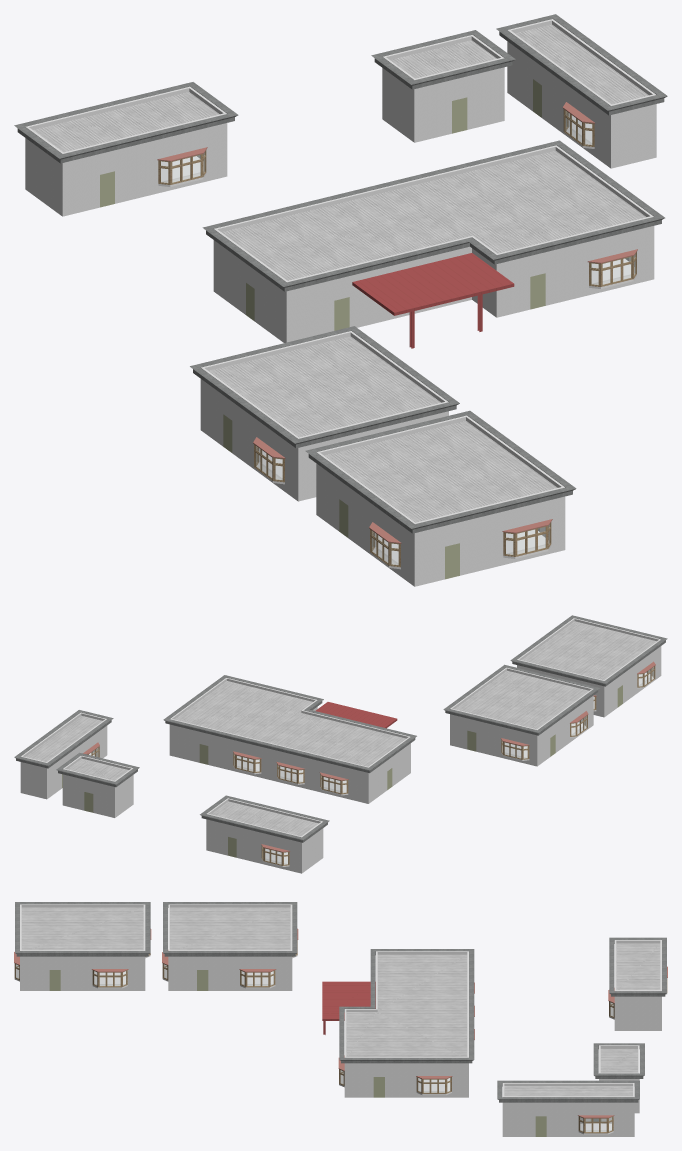
Rendered from Plan(REF)_levels(1)_window(W Splay Bay 23_5)_wall(WAFRA WALL)_quoin(N)_cornice(Y).fbx.
3 views of the same model, one above another, from view 1: azimuth 30°, elevation 25°; view 2: azimuth 150°, elevation 25°; view 3: azimuth 270°, elevation 25° (orthographic). The views are drawn at different scales.
Visible parts, largest first — view 1: WAFRA Stucco - White Rough 23, WAFRA Roof - Corrugated Sheet Matte 23, Concrete - Structural, WAFRA Roof - Standing Seam Red Coat 23, Color - Beige, Wood - Millwork - Pine - Horizontal, Glass - Clear, Metal - Finish - Copper, Color - White; view 2: WAFRA Stucco - White Rough 23, WAFRA Roof - Corrugated Sheet Matte 23, Concrete - Structural, Wood - Millwork - Pine - Horizontal, Glass - Clear, Color - Beige, WAFRA Roof - Standing Seam Red Coat 23, Metal - Finish - Copper, Color - White; view 3: WAFRA Roof - Corrugated Sheet Matte 23, WAFRA Stucco - White Rough 23, Concrete - Structural, Wood - Millwork - Pine - Horizontal, WAFRA Roof - Standing Seam Red Coat 23, Glass - Clear, Color - Beige, Metal - Finish - Copper, Color - White.
Part boxes in pixels (x1=…): WAFRA Stucco - White Rough 23: x1=25, y1=19, x2=656, y2=586; WAFRA Roof - Corrugated Sheet Matte 23: x1=33, y1=24, x2=648, y2=522; Concrete - Structural: x1=14, y1=14, x2=667, y2=533; WAFRA Roof - Standing Seam Red Coat 23: x1=352, y1=253, x2=514, y2=348; Color - Beige: x1=100, y1=79, x2=545, y2=579; Wood - Millwork - Pine - Horizontal: x1=158, y1=109, x2=636, y2=567; Glass - Clear: x1=161, y1=111, x2=635, y2=564; Metal - Finish - Copper: x1=157, y1=102, x2=637, y2=543; Color - White: x1=158, y1=128, x2=636, y2=569; WAFRA Stucco - White Rough 23: x1=20, y1=618, x2=661, y2=873; WAFRA Roof - Corrugated Sheet Matte 23: x1=25, y1=621, x2=656, y2=836; Concrete - Structural: x1=14, y1=615, x2=667, y2=842; Wood - Millwork - Pine - Horizontal: x1=87, y1=666, x2=655, y2=865; Glass - Clear: x1=89, y1=667, x2=653, y2=864; Color - Beige: x1=62, y1=685, x2=622, y2=857; WAFRA Roof - Standing Seam Red Coat 23: x1=315, y1=702, x2=397, y2=728; Metal - Finish - Copper: x1=83, y1=661, x2=655, y2=852; Color - White: x1=233, y1=677, x2=655, y2=866; WAFRA Roof - Corrugated Sheet Matte 23: x1=21, y1=907, x2=660, y2=1096; WAFRA Stucco - White Rough 23: x1=20, y1=904, x2=661, y2=1136; Concrete - Structural: x1=15, y1=902, x2=666, y2=1102; Wood - Millwork - Pine - Horizontal: x1=14, y1=940, x2=667, y2=1133; WAFRA Roof - Standing Seam Red Coat 23: x1=322, y1=981, x2=375, y2=1034; Glass - Clear: x1=16, y1=964, x2=613, y2=1131; Color - Beige: x1=49, y1=970, x2=601, y2=1136; Metal - Finish - Copper: x1=14, y1=928, x2=667, y2=1118; Color - White: x1=14, y1=955, x2=667, y2=1134.
Bounding box in the file's own units: 4259 × 5945 × 400.
Materials: 13 (6 with a texture image).
